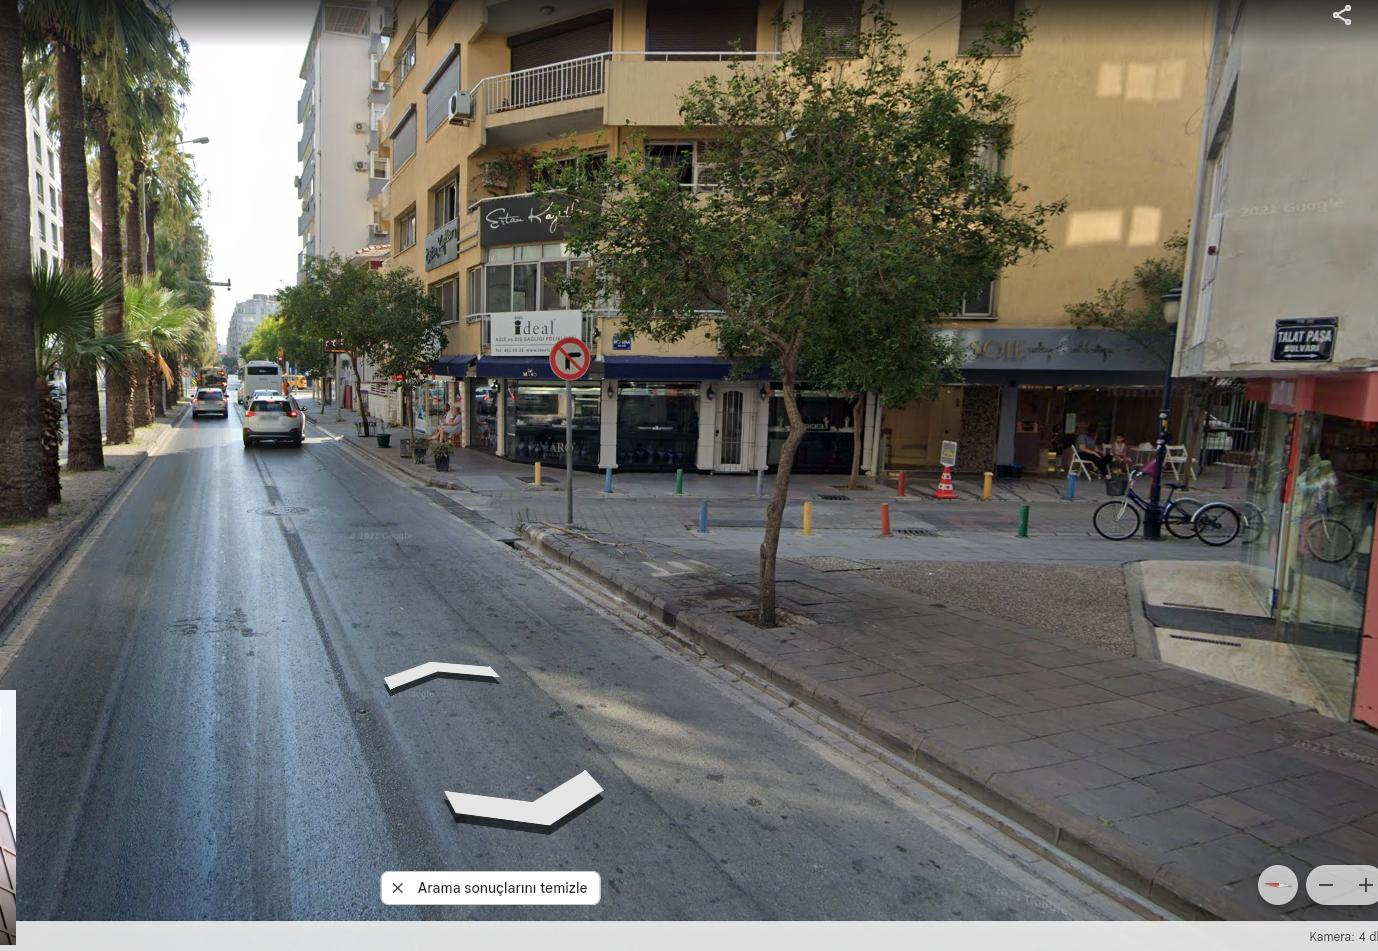rightturnsareforbidden: (552, 337, 588, 379)
